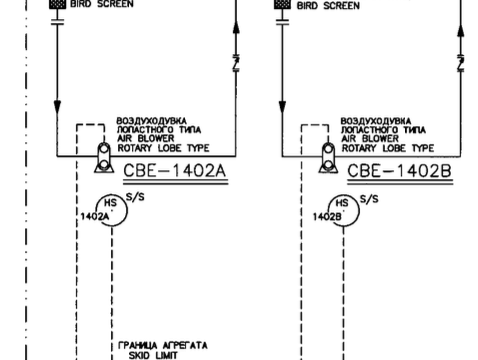Instrument-offset: (309, 191, 365, 232), (79, 190, 131, 232)
